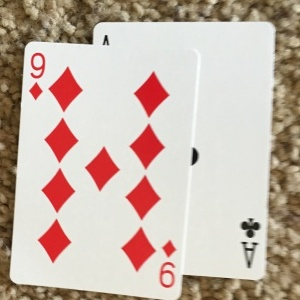card: (183, 21, 278, 279)
